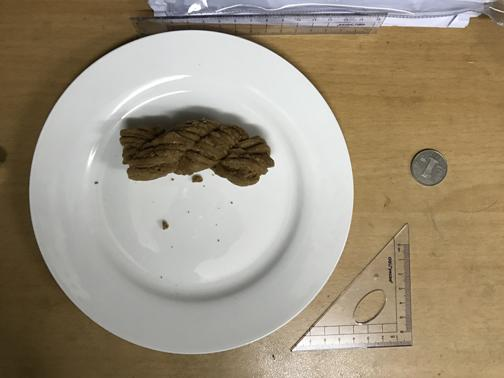coin: (411, 147, 449, 187)
fired_dough_twist: (115, 117, 273, 186)
